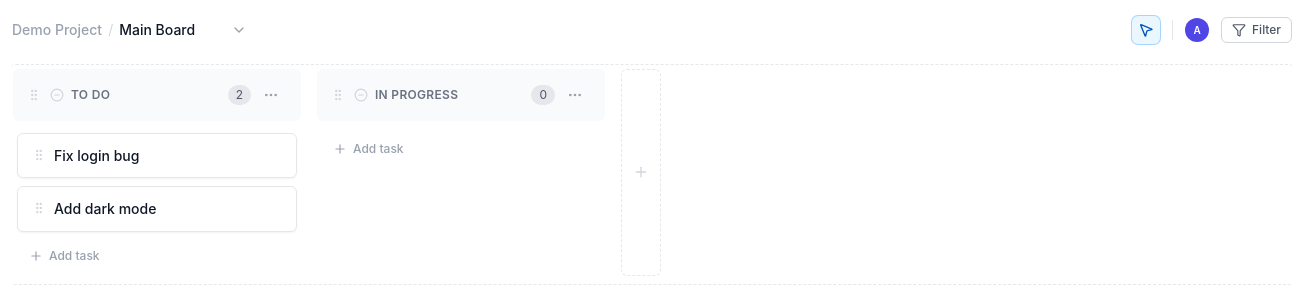
Test: KanbanBoard › shows the Clear button when at least one label filter is active
Click the button "Filter" at (1256, 30), box [1221,17,1292,43]
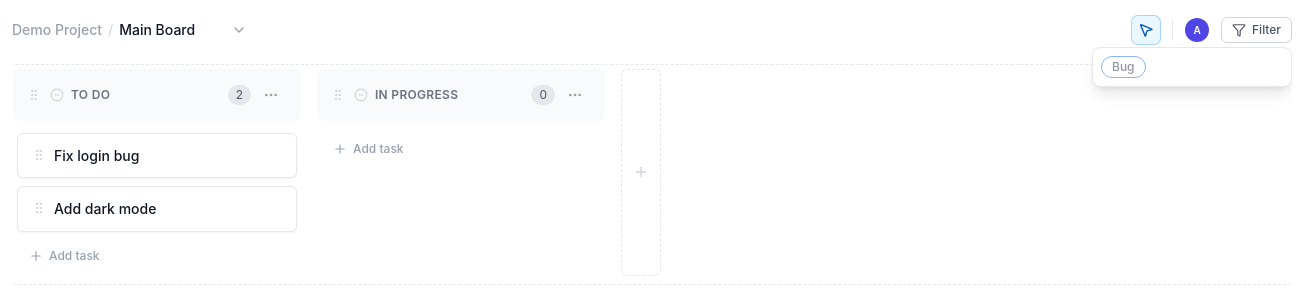
Click the menu item "Bug" at (1123, 67), box [1101,56,1146,78]
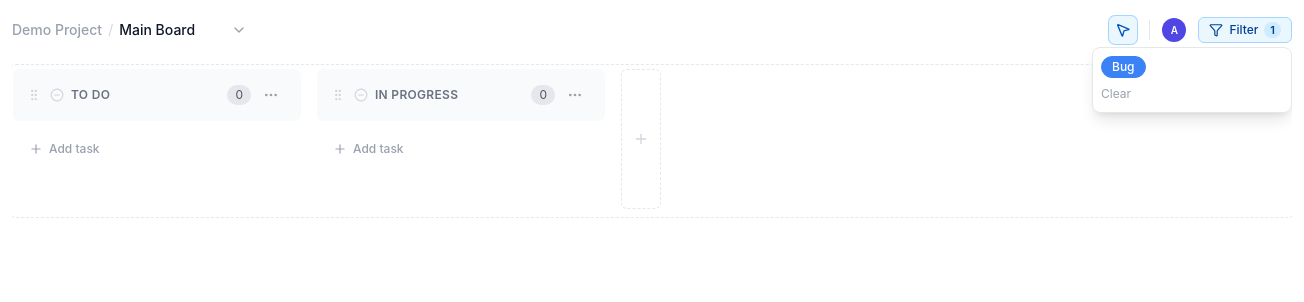
Expected: the menu item "Clear" is shown, [1101,86,1131,102]
